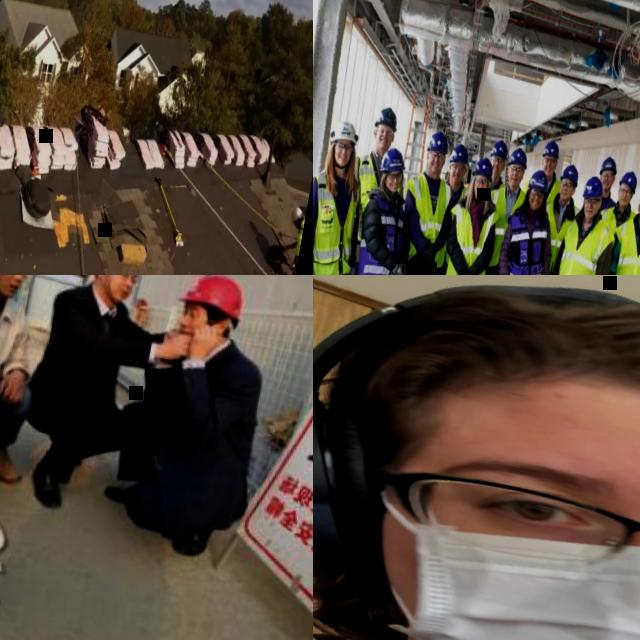Hardhat: (176, 275, 252, 322), (466, 152, 496, 205), (325, 117, 360, 152), (378, 144, 408, 177), (373, 104, 400, 130), (582, 172, 605, 201), (527, 166, 551, 192), (426, 129, 451, 153), (506, 145, 530, 168), (449, 142, 473, 165), (472, 154, 496, 177), (559, 162, 581, 186), (540, 136, 562, 159), (598, 153, 619, 176), (618, 167, 638, 191), (489, 138, 510, 159), (288, 203, 302, 221)
Mask: (337, 503, 640, 640)
NO-Hardhat: (339, 275, 640, 508)
NO-Mask: (102, 275, 133, 302), (178, 316, 210, 342), (0, 275, 22, 292), (374, 134, 392, 151), (332, 150, 350, 166), (425, 161, 443, 176), (582, 204, 598, 219), (540, 162, 556, 176), (506, 175, 522, 189), (558, 185, 572, 200), (526, 196, 540, 210), (472, 186, 486, 199), (448, 172, 462, 185), (616, 193, 631, 205), (600, 178, 612, 191), (388, 180, 400, 191), (490, 165, 501, 176), (636, 209, 640, 223), (294, 221, 298, 228)
NO-Safety Vest: (151, 337, 265, 463), (44, 291, 142, 397), (0, 277, 36, 386)
Person: (313, 275, 640, 640), (112, 275, 284, 561), (10, 275, 207, 524), (316, 101, 416, 275), (372, 125, 466, 275), (331, 141, 427, 275), (0, 275, 64, 476), (420, 149, 508, 275), (409, 140, 489, 275), (474, 161, 568, 275), (526, 167, 625, 275), (456, 141, 535, 275), (313, 113, 378, 275), (442, 133, 512, 275), (514, 158, 588, 275), (570, 162, 640, 275), (583, 173, 640, 275), (521, 134, 569, 209), (592, 152, 624, 213), (281, 202, 306, 269)
Safety Vest: (341, 146, 408, 250), (391, 168, 458, 268), (313, 165, 366, 275), (438, 190, 500, 275), (352, 188, 412, 275), (476, 180, 526, 271), (495, 201, 553, 275), (553, 209, 618, 275), (534, 198, 582, 274), (430, 174, 470, 264), (605, 214, 640, 275), (520, 173, 560, 213), (597, 202, 634, 234), (486, 177, 506, 204), (294, 216, 304, 253), (599, 196, 616, 212)
